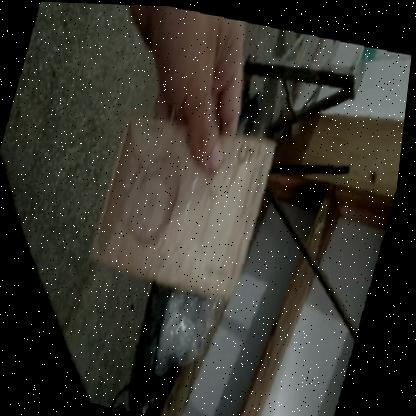vef_front: (90, 113, 282, 297)
